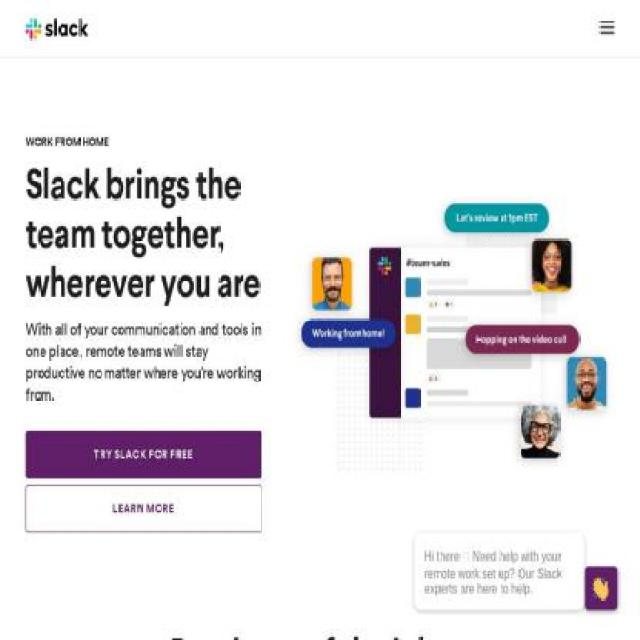button: (25, 431, 262, 478), (25, 485, 262, 532), (26, 18, 88, 39), (598, 0, 615, 58)
